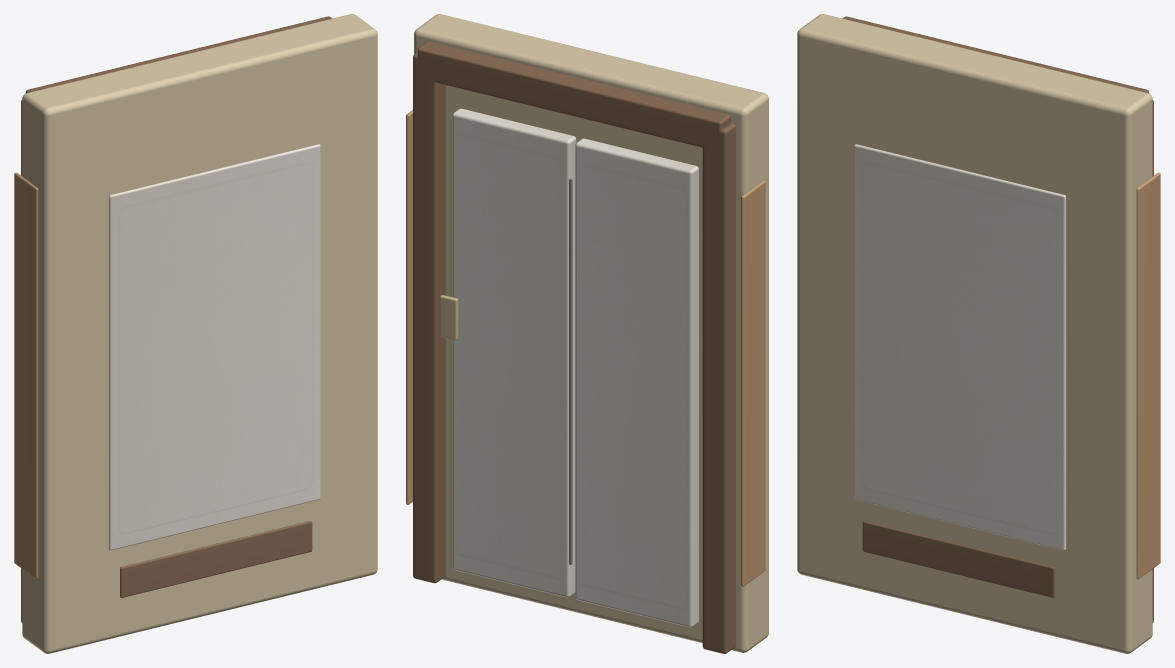
The model's file is room_l2_img2_living_end_elevator_fixture.glb.
3 views of the same model, side by side, from view 1: azimuth 30°, elevation 25°; view 2: azimuth 150°, elevation 25°; view 3: azimuth 330°, elevation 25° (orthographic).
Visible parts, largest first — view 1: elevator_residential_light_oak_wall_surround, elevator_rear_large_residential_inset, elevator_left_side_broad_panel, elevator_rear_lower_shadow_kick, elevator_top_walnut_lintel; view 2: elevator_left_plain_panel_door, elevator_right_plain_panel_door, elevator_residential_light_oak_wall_surround, elevator_left_walnut_jamb, elevator_right_walnut_jamb, elevator_top_walnut_lintel, elevator_left_side_broad_panel, elevator_right_side_broad_panel, elevator_too_perfect_center_split, elevator_single_small_call_button_plate; view 3: elevator_residential_light_oak_wall_surround, elevator_rear_large_residential_inset, elevator_right_side_broad_panel, elevator_rear_lower_shadow_kick, elevator_top_walnut_lintel.
Boxes of the visible parts, bbox=[...] form: elevator_residential_light_oak_wall_surround: bbox=[22, 14, 377, 653]; elevator_rear_large_residential_inset: bbox=[108, 144, 320, 550]; elevator_left_side_broad_panel: bbox=[14, 172, 38, 579]; elevator_rear_lower_shadow_kick: bbox=[120, 521, 312, 597]; elevator_top_walnut_lintel: bbox=[25, 16, 332, 93]; elevator_left_plain_panel_door: bbox=[575, 138, 698, 627]; elevator_right_plain_panel_door: bbox=[452, 108, 576, 597]; elevator_residential_light_oak_wall_surround: bbox=[414, 14, 768, 652]; elevator_left_walnut_jamb: bbox=[702, 123, 735, 653]; elevator_right_walnut_jamb: bbox=[413, 52, 445, 583]; elevator_top_walnut_lintel: bbox=[417, 41, 730, 149]; elevator_left_side_broad_panel: bbox=[741, 180, 765, 586]; elevator_right_side_broad_panel: bbox=[406, 110, 412, 504]; elevator_too_perfect_center_split: bbox=[569, 178, 572, 564]; elevator_single_small_call_button_plate: bbox=[440, 295, 458, 340]; elevator_residential_light_oak_wall_surround: bbox=[797, 14, 1152, 653]; elevator_rear_large_residential_inset: bbox=[854, 144, 1066, 550]; elevator_right_side_broad_panel: bbox=[1136, 172, 1160, 579]; elevator_rear_lower_shadow_kick: bbox=[862, 521, 1054, 597]; elevator_top_walnut_lintel: bbox=[842, 16, 1149, 93].
Size of the model in its own units: 1.38 by 2.12 by 0.283.
6 materials, 1 textured.
